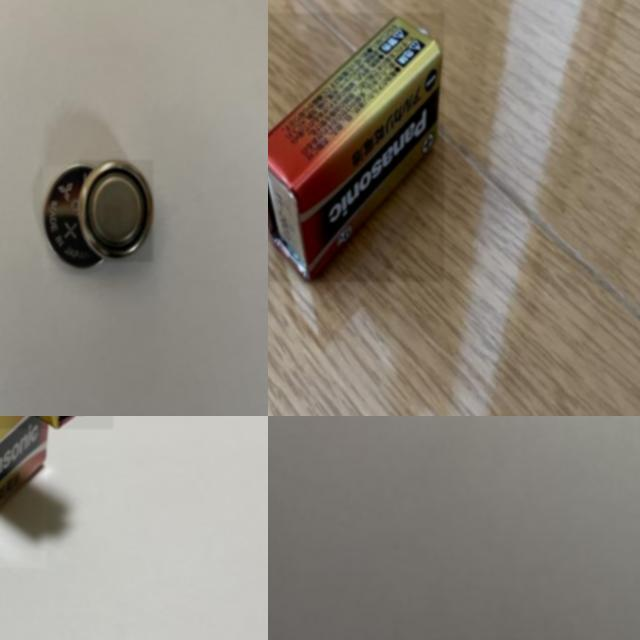9V: (268, 13, 444, 282), (0, 416, 47, 568)
